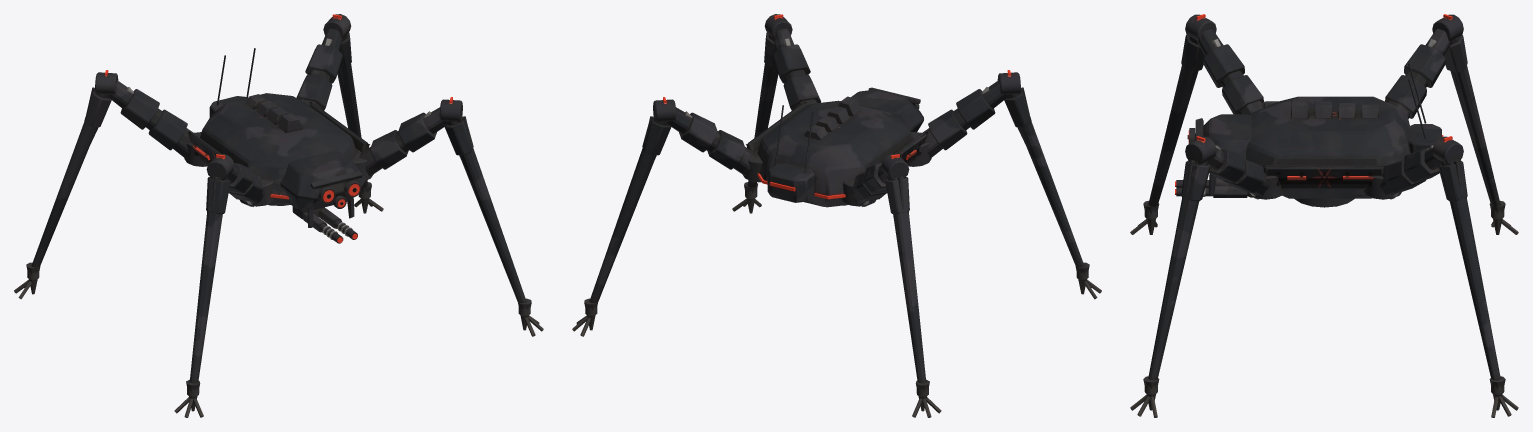
Rendered from hs_swarm_walker_lod0.glb.
3 views of the same model, side by side, from view 1: azimuth 30°, elevation 25°; view 2: azimuth 150°, elevation 25°; view 3: azimuth 270°, elevation 25° (orthographic). The views are drawn at different scales.
Size of the model in its own units: 7.39 by 4.49 by 6.29.
Materials: 1 (1 with a texture image).
